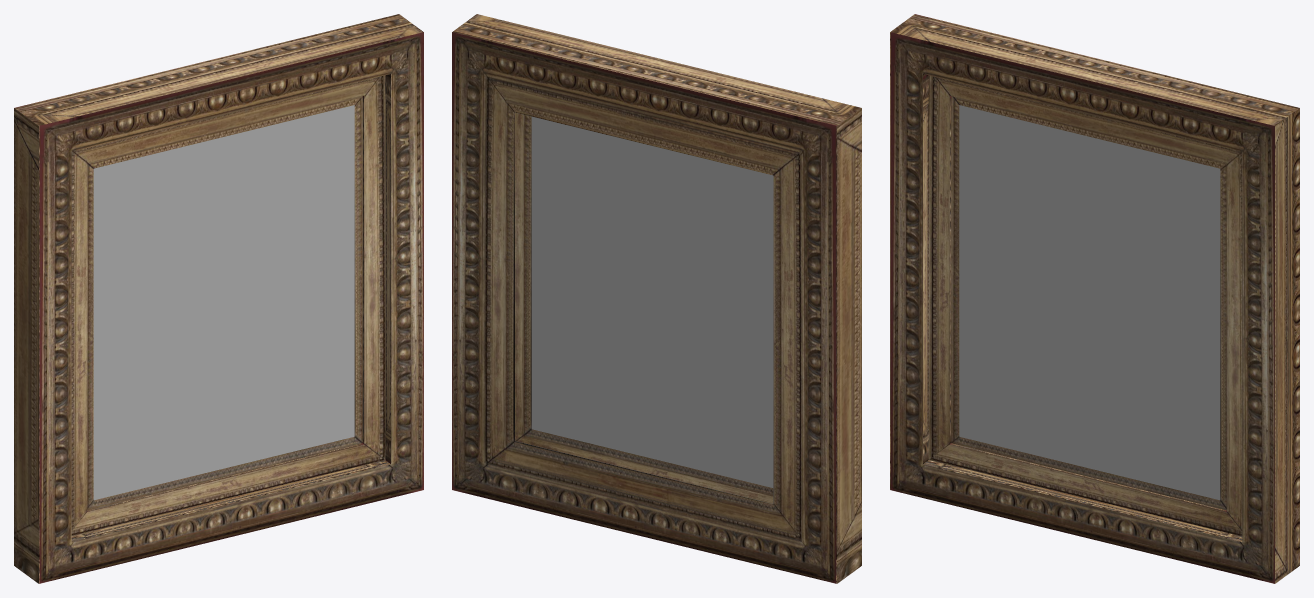
File: art2.fbx
The picture shows the model from 3 angles, left to right: view 1: azimuth 30°, elevation 25°; view 2: azimuth 150°, elevation 25°; view 3: azimuth 330°, elevation 25°; orthographic projection.
Visible parts, largest first — view 1: cadre_delacroix, peinture_delacroix; view 2: cadre_delacroix, peinture_delacroix; view 3: cadre_delacroix, peinture_delacroix.
Part boxes in pixels (x1,y1,x2,y2): cadre_delacroix: (14,14,423,583); peinture_delacroix: (93,105,354,500); cadre_delacroix: (452,14,861,583); peinture_delacroix: (531,117,773,487); cadre_delacroix: (890,14,1299,583); peinture_delacroix: (959,105,1220,500).
Bounding box in the file's own units: 436 × 495 × 48.55.
